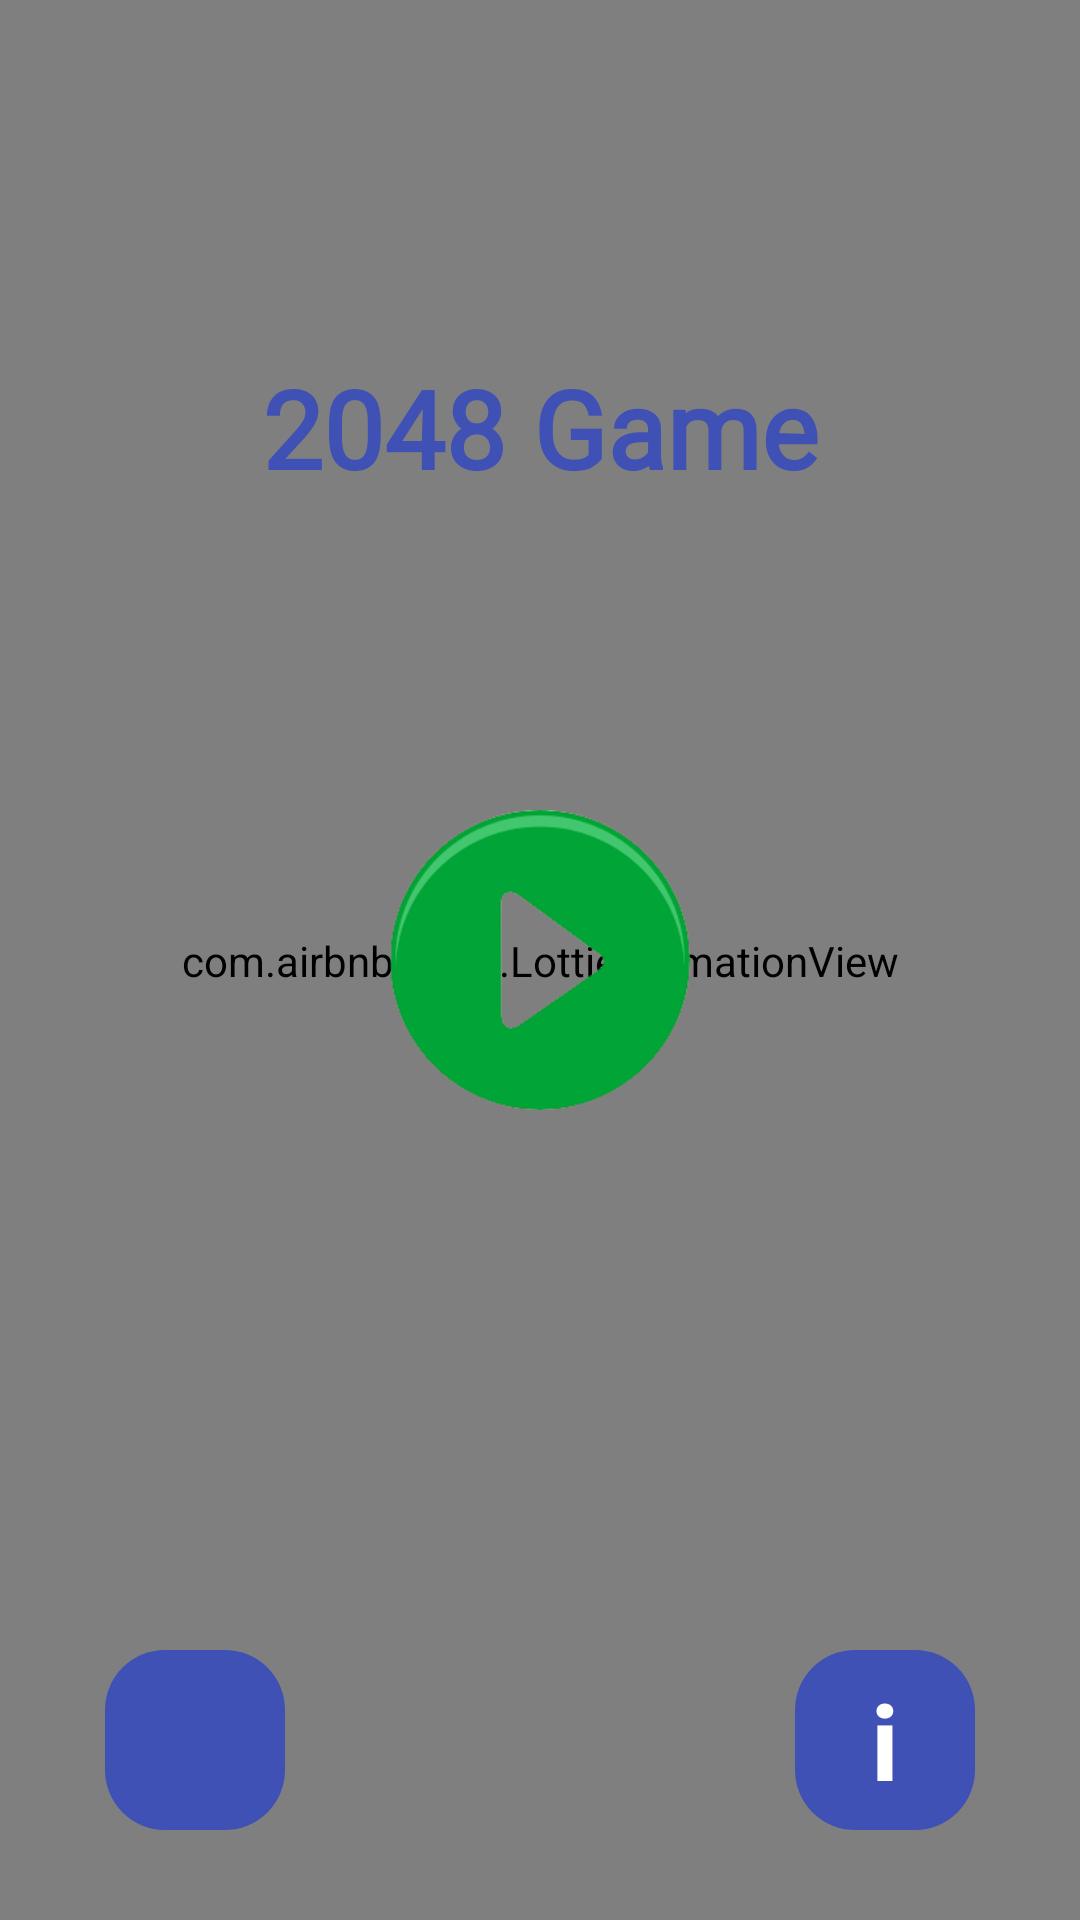

Screen size 1080px x 1920px. Icon name, then its center in pixels as (x=x, y=y):
play: (x=540, y=960)
